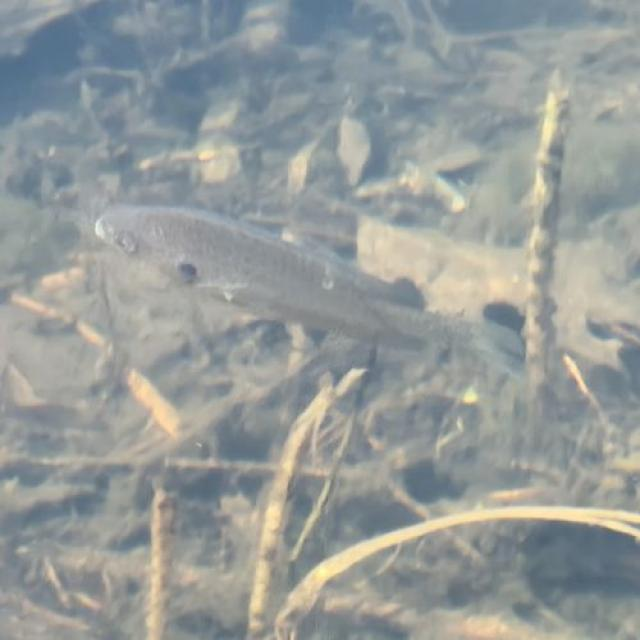Gunes Levregi: (90, 195, 532, 394)
